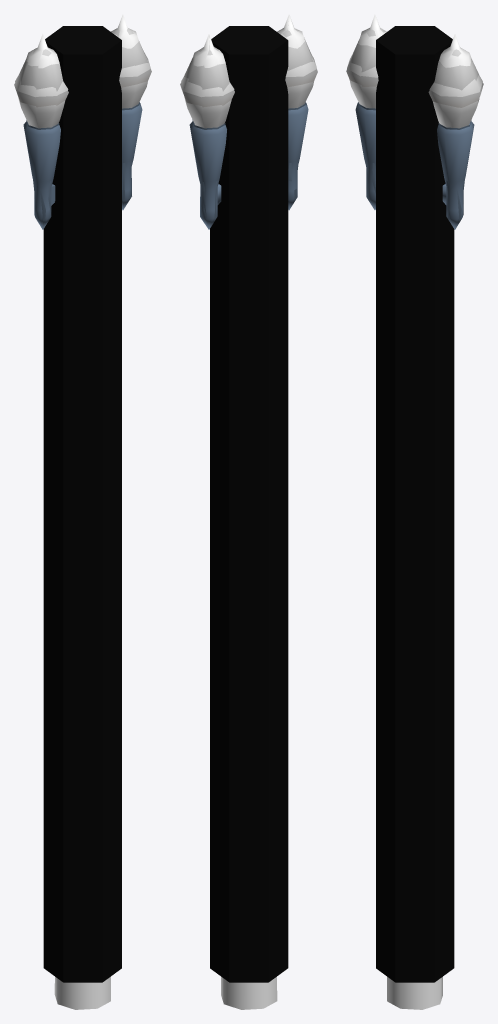
Rendered from lamp1.dae.
3 renders of one model, left to right at view 1: azimuth 30°, elevation 25°; view 2: azimuth 210°, elevation 25°; view 3: azimuth 330°, elevation 25°, orthographic.
Parts seen in each view (by area): view 1: Colmesh-1, lamp1_a400, lamp1_a050; view 2: Colmesh-1, lamp1_a400, lamp1_a050; view 3: Colmesh-1, lamp1_a400, lamp1_a050.
Part boxes in pixels (<box>): Colmesh-1: <box>43,26,121,982</box>; lamp1_a400: <box>15,14,150,1009</box>; lamp1_a050: <box>14,26,151,228</box>; Colmesh-1: <box>210,26,288,982</box>; lamp1_a400: <box>181,14,316,1009</box>; lamp1_a050: <box>180,19,317,228</box>; Colmesh-1: <box>376,26,454,982</box>; lamp1_a400: <box>347,14,482,1009</box>; lamp1_a050: <box>346,26,483,229</box>.
Bounding box in the file's own units: 1.21 × 0.6228 × 8.54.
